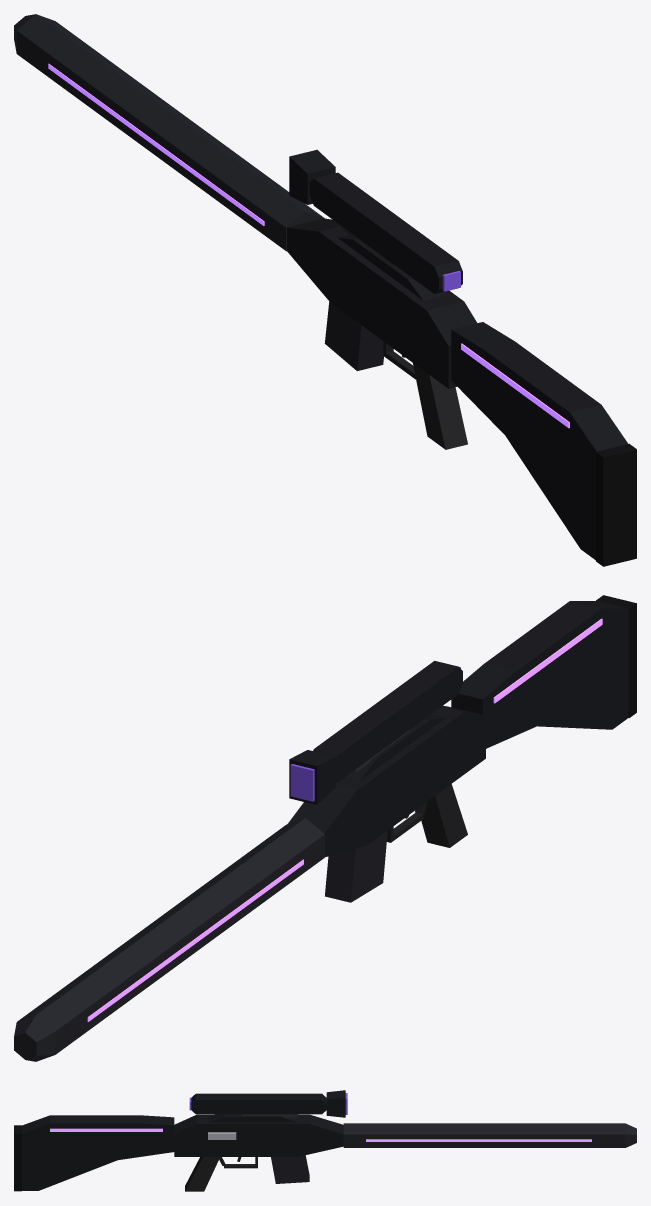
File: Phantom.glb
The picture shows the model from 3 angles, top to bottom: view 1: azimuth 30°, elevation 25°; view 2: azimuth 150°, elevation 25°; view 3: azimuth 270°, elevation 25°; orthographic projection. The views are drawn at different scales.
Parts seen in each view (by area): view 1: Stock, Handguard, Body, Scope, Pad, Grip, Magazine, Accent; view 2: Stock, Handguard, Body, Scope, Magazine, Accent, Grip, Muzzle, Pad, Lens; view 3: Stock, Handguard, Body, Scope, Accent, Magazine, Grip, Pad, Trigger, Muzzle, Bolt.
Part boxes in pixels (x1,y1,x2,y2): Stock: [451, 322, 628, 560]; Handguard: [16, 14, 324, 251]; Body: [287, 218, 476, 388]; Scope: [289, 149, 462, 293]; Pad: [596, 444, 636, 566]; Grip: [413, 363, 467, 449]; Magazine: [324, 302, 383, 370]; Accent: [48, 63, 569, 428]; Stock: [451, 601, 628, 748]; Handguard: [17, 818, 324, 1054]; Body: [287, 705, 485, 856]; Scope: [289, 660, 462, 804]; Magazine: [325, 831, 387, 902]; Accent: [87, 618, 602, 1021]; Grip: [421, 784, 467, 847]; Muzzle: [14, 1015, 55, 1061]; Pad: [596, 595, 636, 717]; Lens: [290, 667, 460, 801]; Stock: [22, 1115, 174, 1190]; Handguard: [343, 1123, 625, 1147]; Body: [174, 1114, 343, 1156]; Scope: [191, 1090, 345, 1117]; Accent: [50, 1128, 591, 1141]; Magazine: [271, 1155, 309, 1183]; Grip: [185, 1157, 219, 1191]; Pad: [14, 1125, 21, 1191]; Trigger: [219, 1157, 257, 1168]; Muzzle: [625, 1123, 636, 1147]; Bolt: [208, 1132, 236, 1139].
Size of the model in its own units: 0.238 by 0.93 by 5.52.
